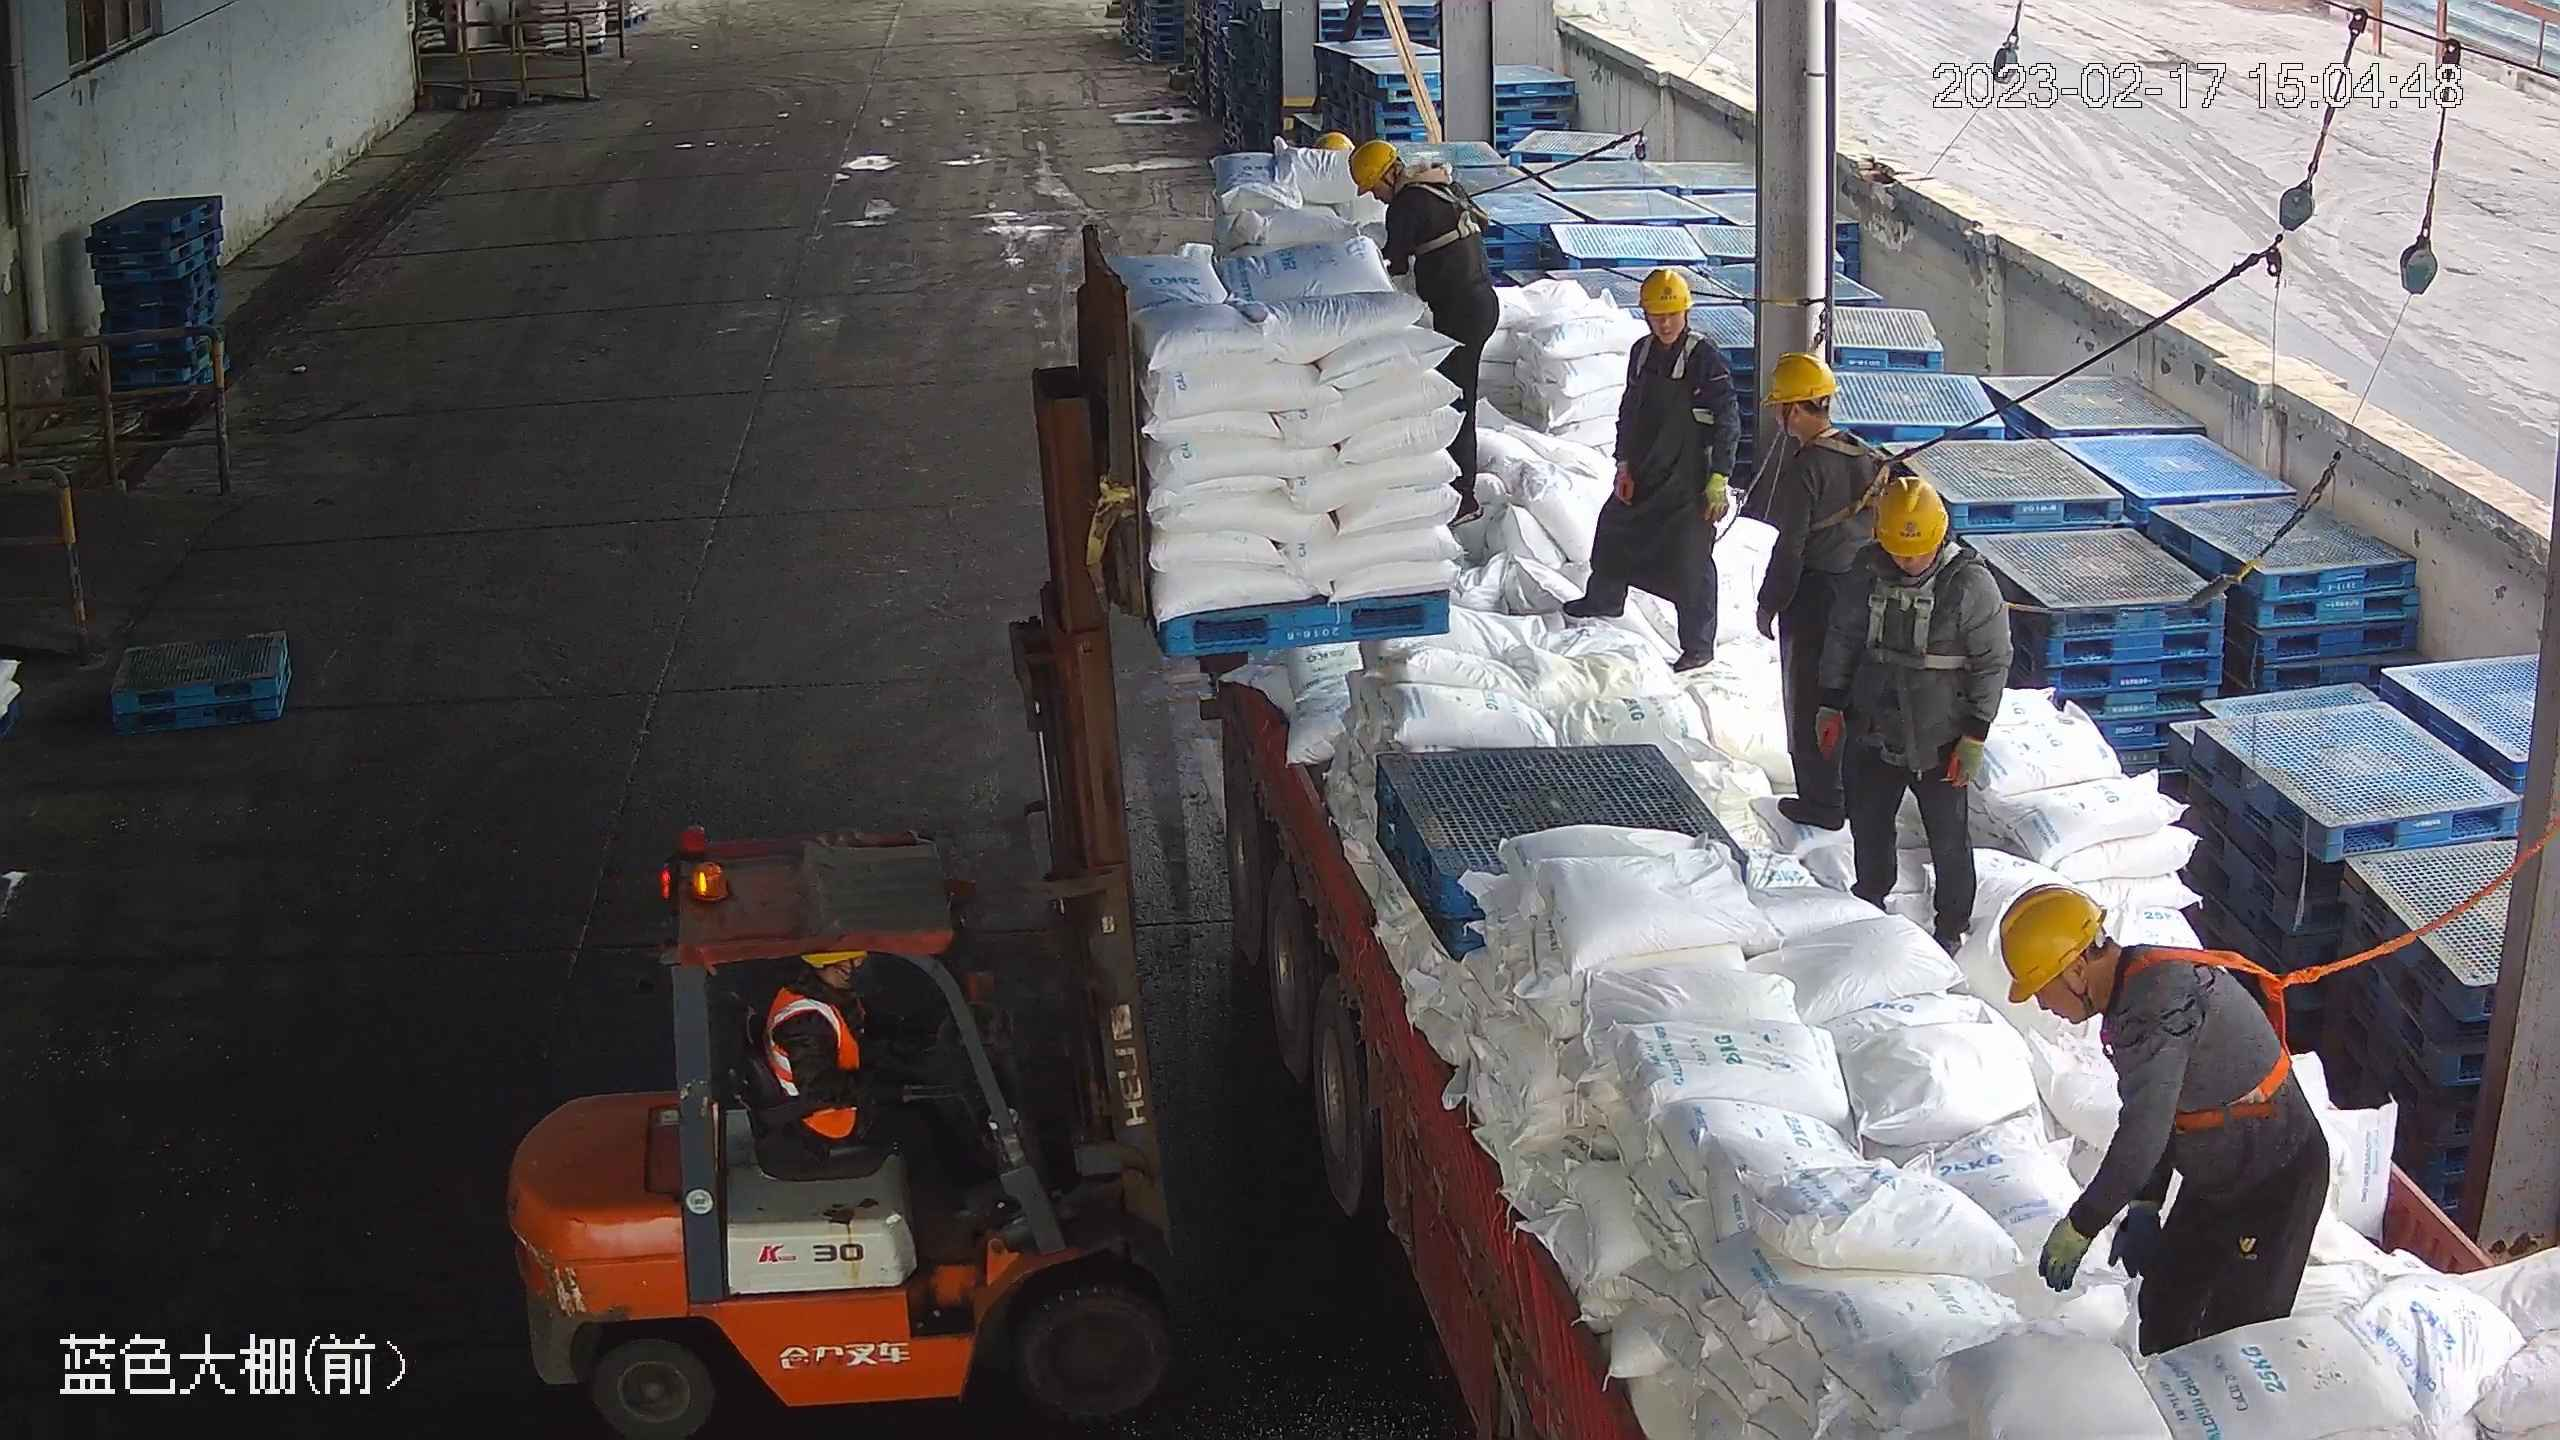belt: (2107, 931, 2317, 1131), (1862, 545, 1979, 663), (1791, 427, 1897, 535), (1405, 173, 1490, 259), (1638, 331, 1714, 385)
head: (1993, 883, 2233, 1069), (1837, 474, 1997, 620), (1755, 351, 1876, 488), (1613, 266, 1731, 399), (1354, 141, 1473, 238)
helmet: (1996, 881, 2110, 1007), (1870, 473, 1950, 562), (1760, 349, 1838, 406), (1345, 136, 1400, 195), (1634, 265, 1695, 318)
people: (1997, 883, 2339, 1352), (1821, 474, 2011, 958), (748, 951, 1000, 1239), (1556, 264, 1737, 664), (1740, 347, 1892, 825), (1348, 137, 1505, 523)
truck: (1132, 260, 2543, 1422)
